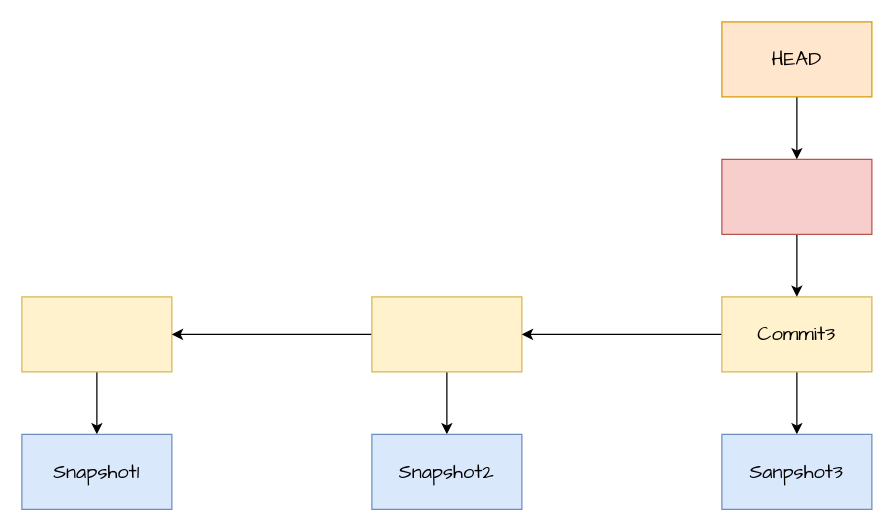
This 894x531 diagram has some shape labels left out. The centre of each missing label's shape, as x and y in pixels:
"Commit1" belongs at point 96,334.
"Commit2" belongs at point 446,334.
"Main" belongs at point 796,196.
